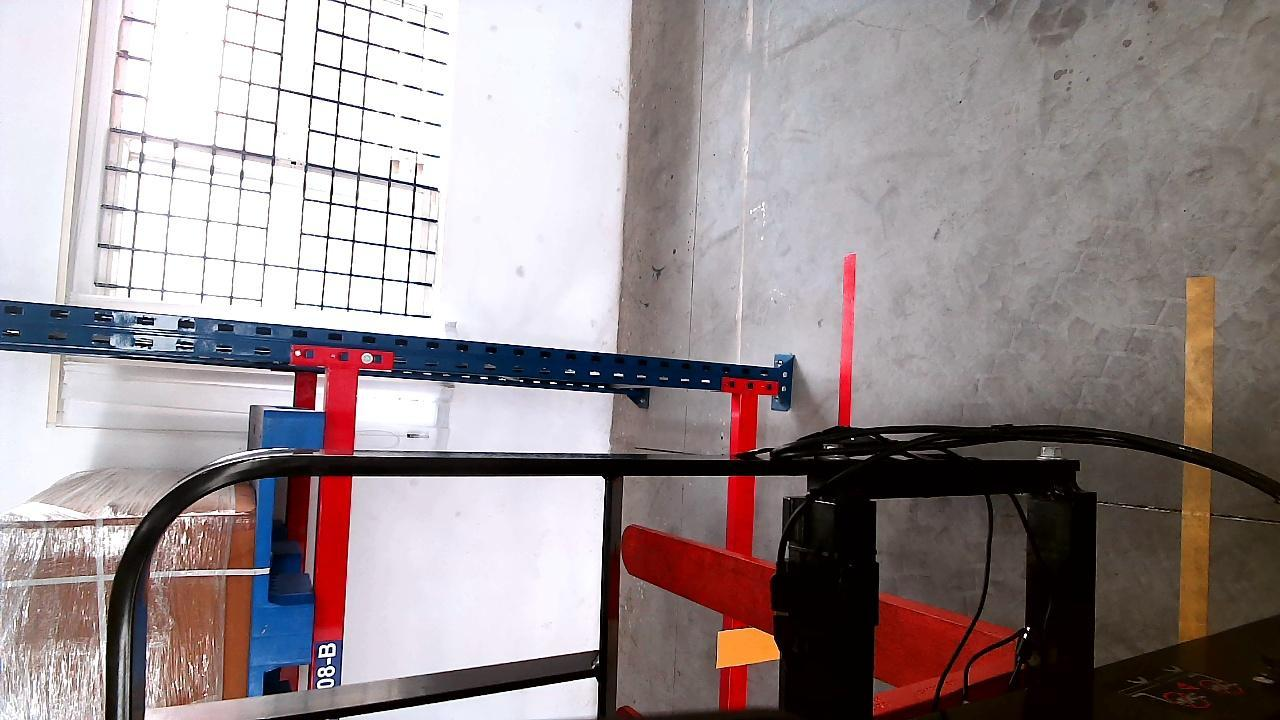red_line: (840, 254, 857, 429)
yellow_line: (1180, 267, 1216, 658)
